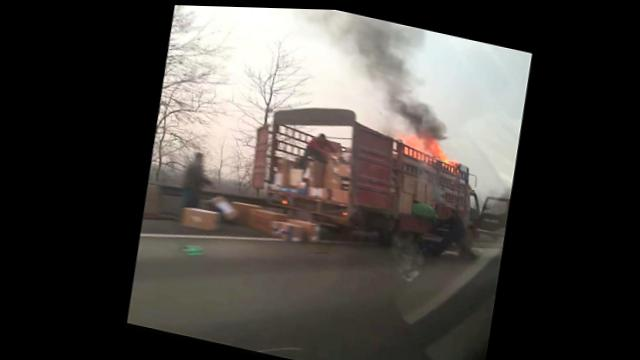fire: (428, 140, 450, 158), (406, 132, 427, 148), (446, 153, 457, 163)
